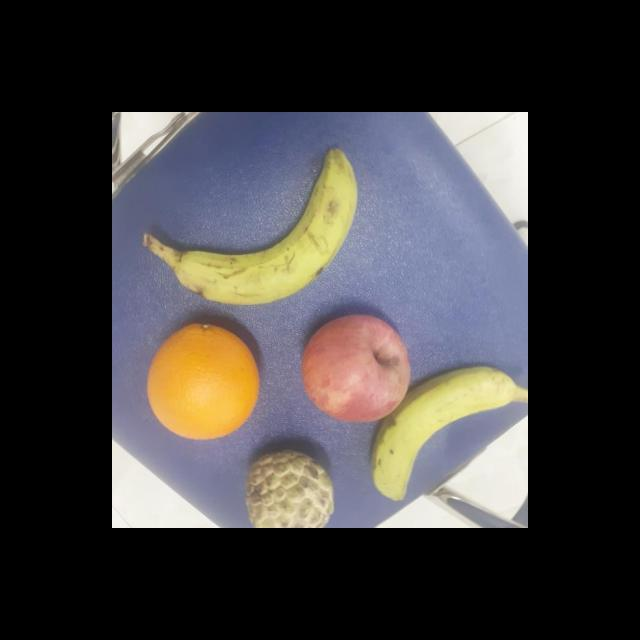Sakya fruit: (244, 452, 337, 528)
apple: (297, 313, 412, 424)
banana: (168, 144, 362, 311), (365, 362, 523, 510)
orange: (146, 324, 265, 442)
